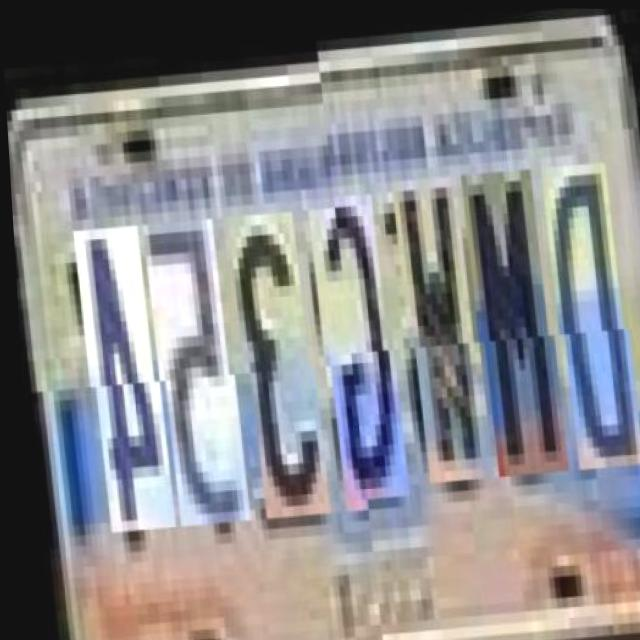3: (222, 202, 314, 510)
4: (67, 212, 159, 521)
5: (137, 208, 233, 516)
d: (538, 169, 629, 478)
g: (302, 196, 394, 504)
m: (457, 174, 553, 483)
w: (387, 180, 479, 489)
